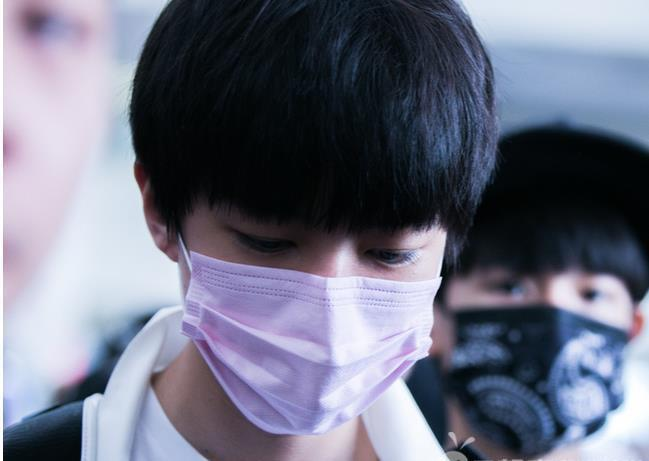OK: (195, 199, 440, 428), (454, 260, 633, 446)
